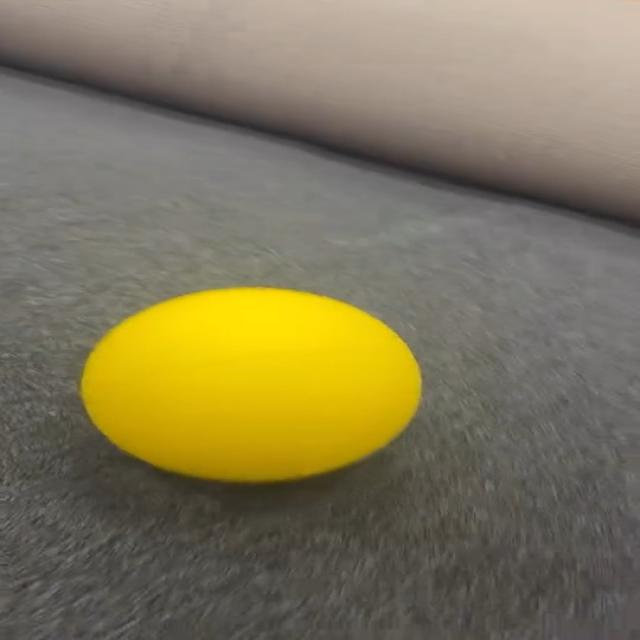Fuels: (80, 286, 422, 482)
